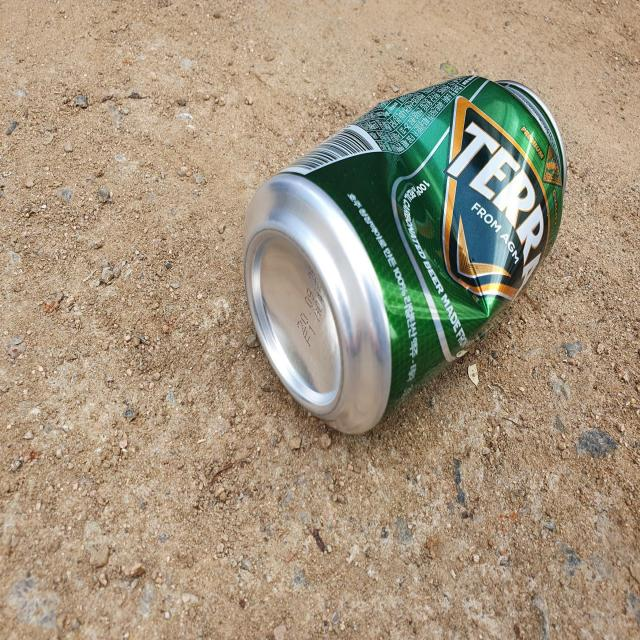can: (244, 75, 567, 434)
